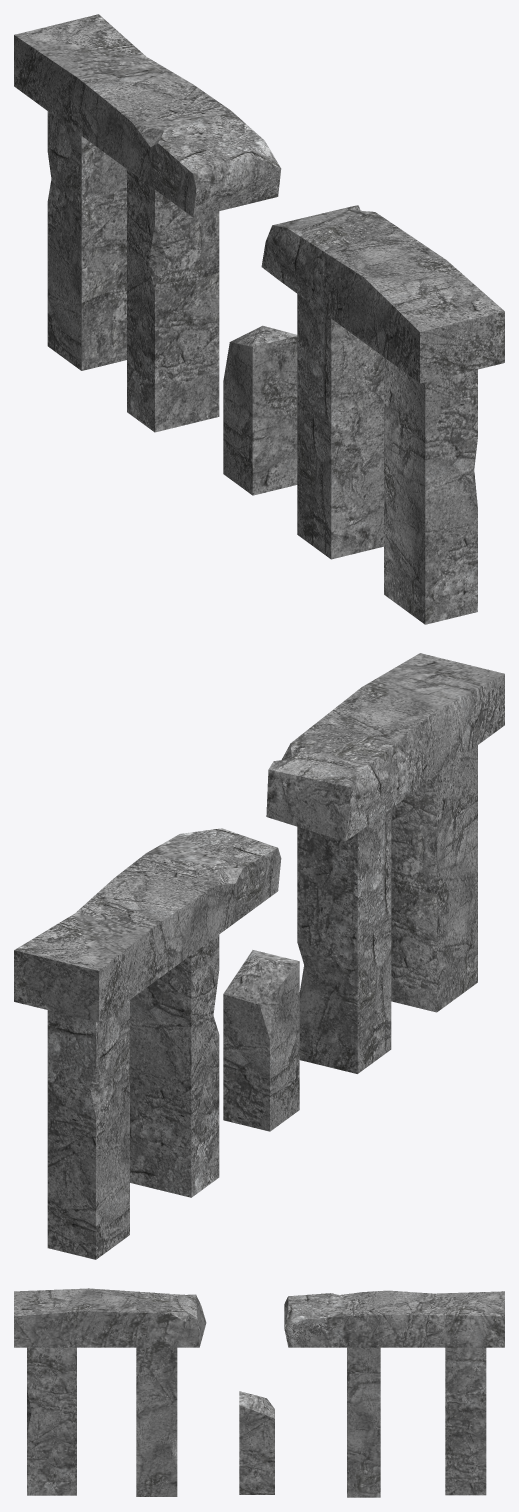
The model's file is materials_3_handrail_10.fbx.
The picture shows the model from 3 angles, top to bottom: view 1: azimuth 30°, elevation 25°; view 2: azimuth 150°, elevation 25°; view 3: azimuth 270°, elevation 25°; orthographic projection. The views are drawn at different scales.
Visible parts, largest first — view 1: materials_3_handrail_10; view 2: materials_3_handrail_10; view 3: materials_3_handrail_10.
Part boxes in pixels (bbox=[...]): materials_3_handrail_10: bbox=[14, 14, 504, 624]; materials_3_handrail_10: bbox=[14, 653, 504, 1259]; materials_3_handrail_10: bbox=[14, 1288, 504, 1497].
Size of the model in its own units: 22.18 by 78.14 by 184.
